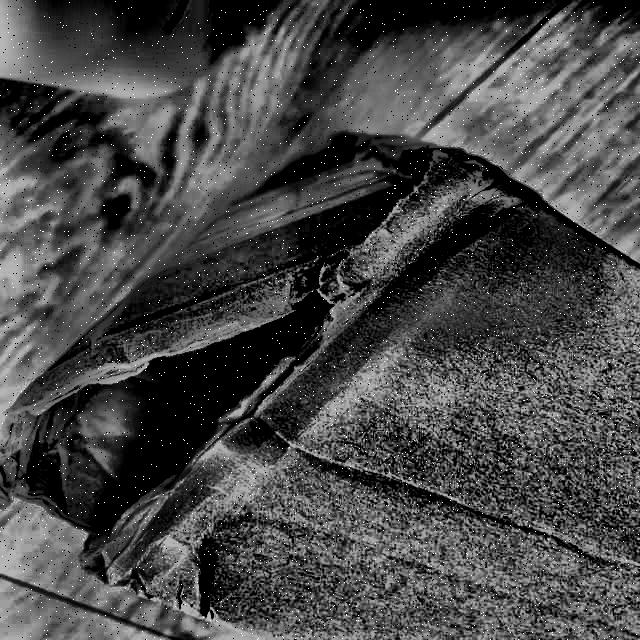box: (1, 118, 640, 640)
hole: (0, 277, 335, 569)
